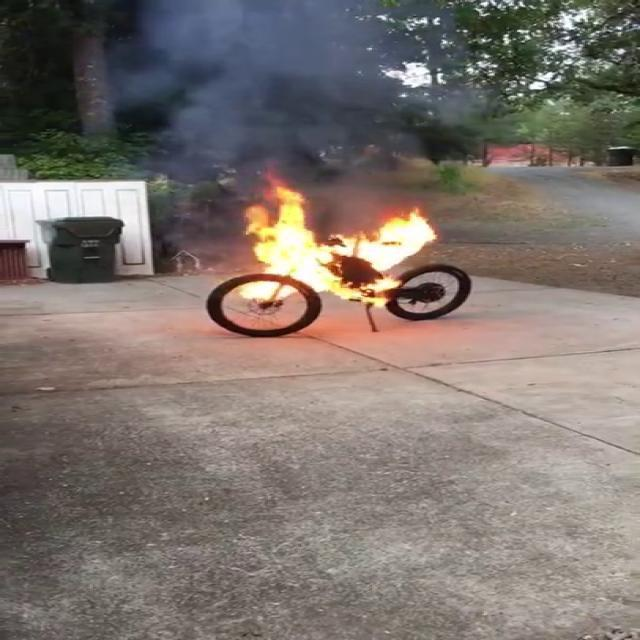Fire: (228, 179, 442, 302)
Smoke: (90, 0, 439, 189)
